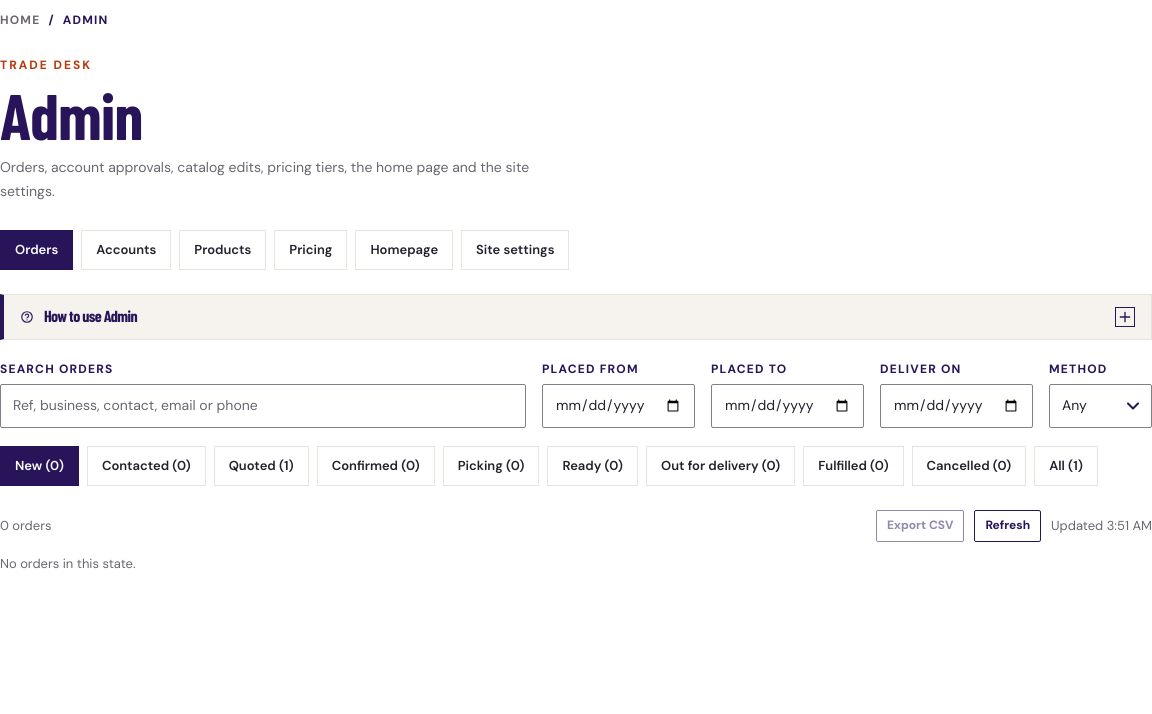
Scenario: Admin orders with the quote workflow › links a converted guest quote to the approved account chosen, listing the quote’s email first (AW-024)
The image size is (1152, 714).
Click the button "All (1)" at (1066, 466), box [1034,446,1098,486]
(page scrolled)
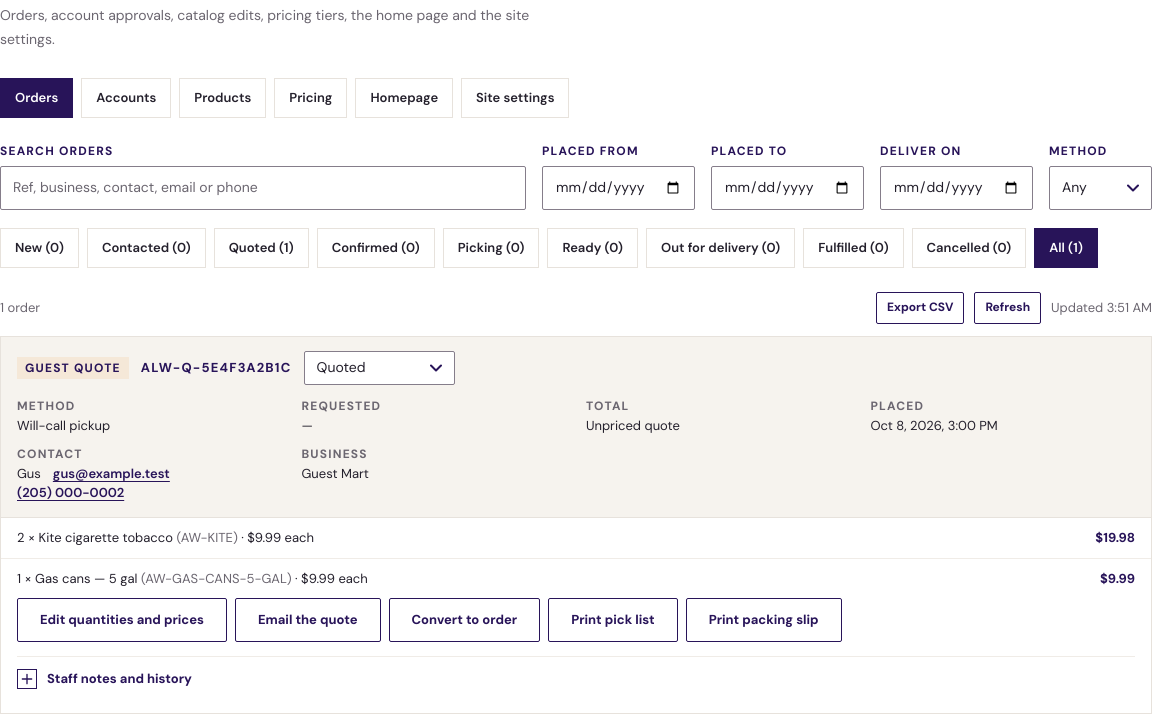
Click the button "Convert to order" at (464, 620), box [388,598,540,642]
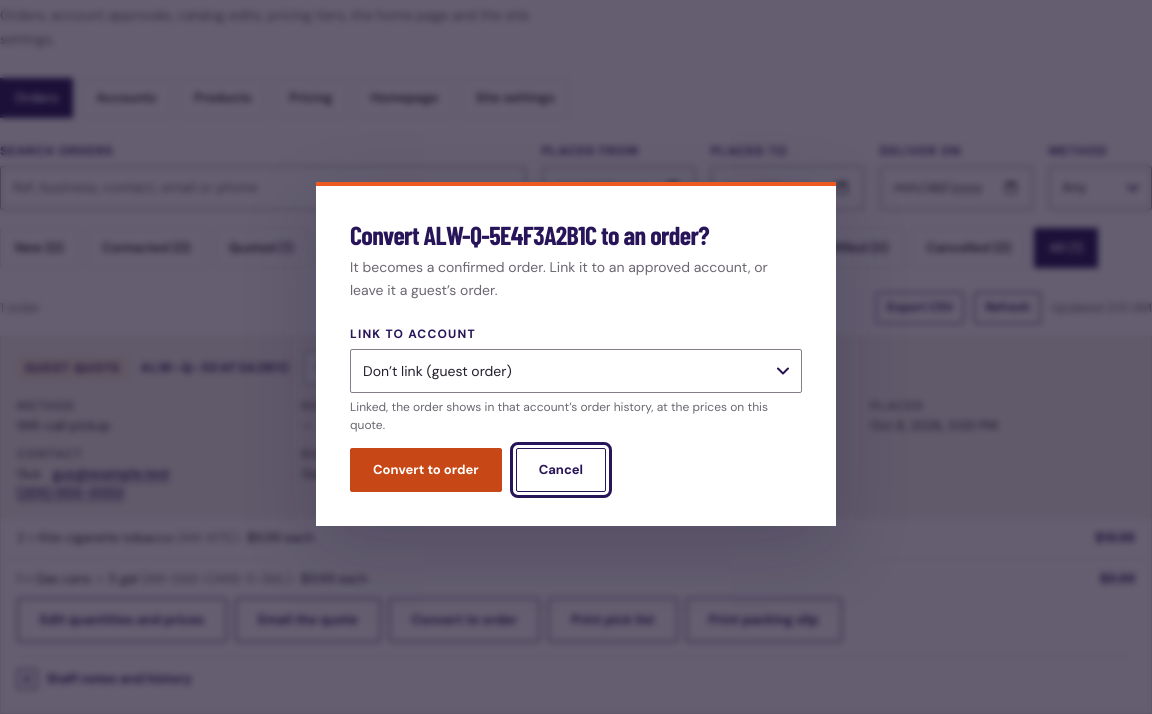
Select "Alpha Mart · al@example.test" in the dropdown labelled "Link to account" at (576, 371), box [350,349,802,393]
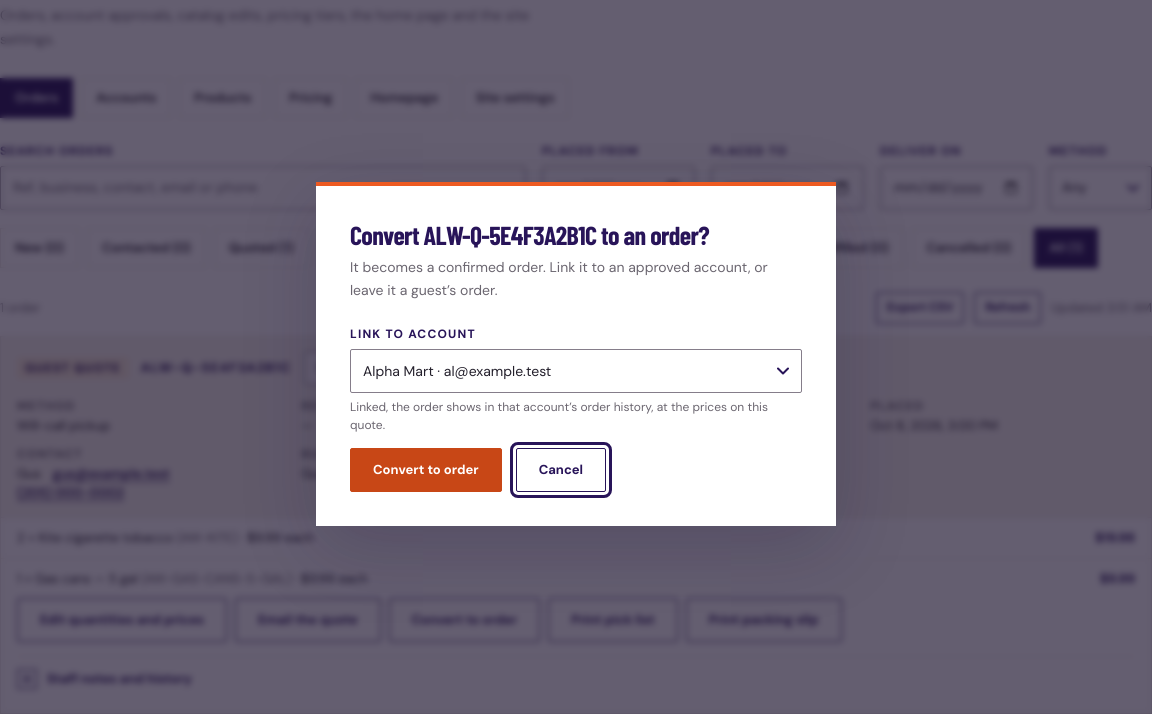
Click the button "Convert to order" at (426, 470), box [350,448,502,492]
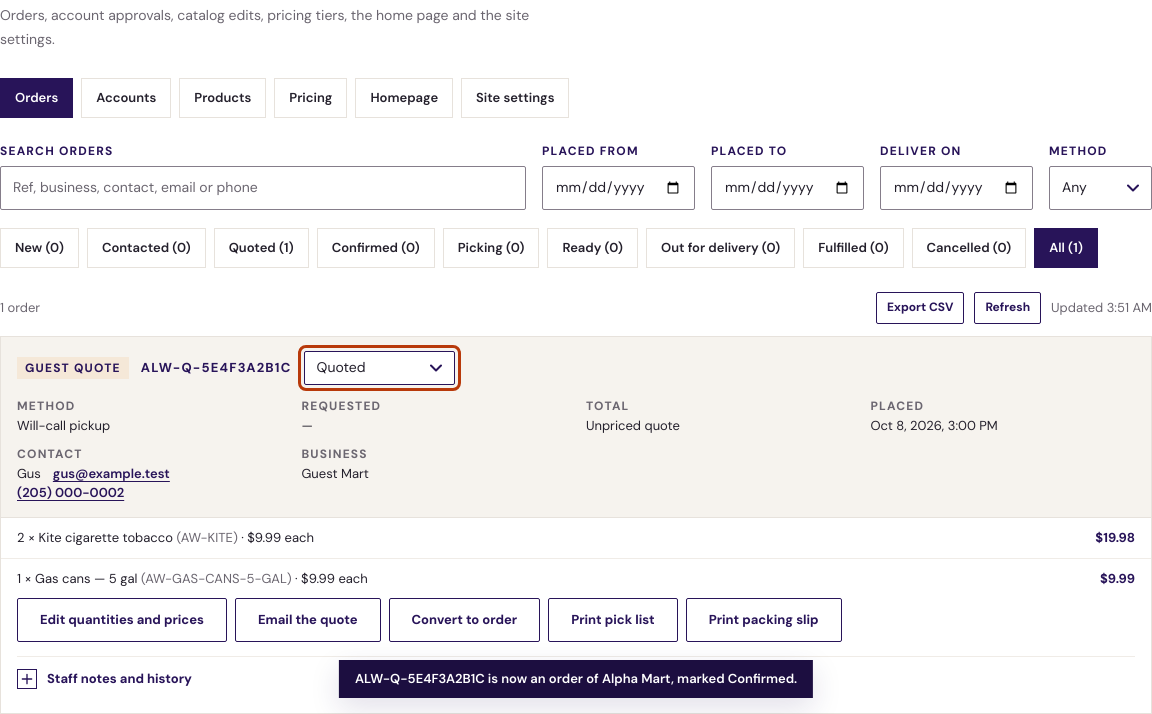
Expected: the message with class "admin-status-text" reads "ALW-Q-5E4F3A2B1C is now an order of Alpha Mart, marked Confirmed.", [355,670,797,687]
